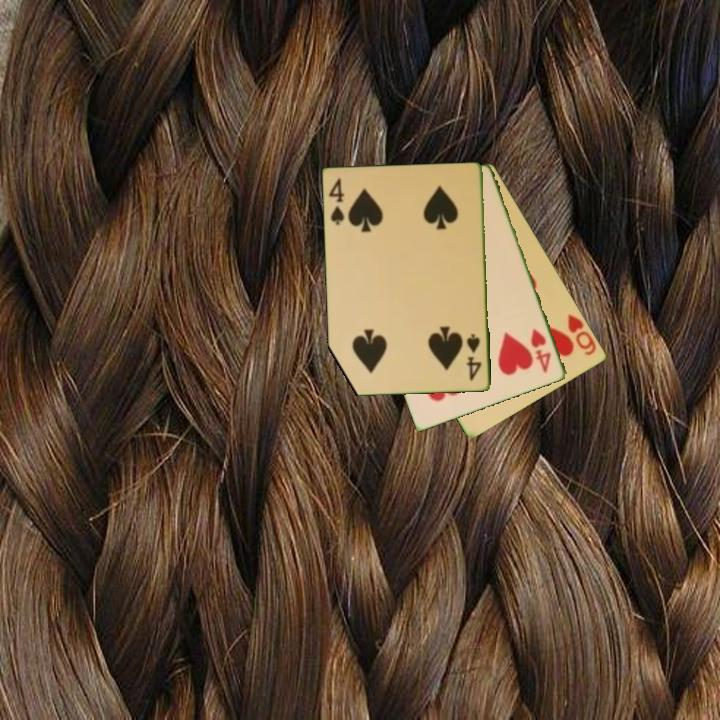4h: (527, 325, 554, 376)
4s: (325, 175, 347, 228), (463, 331, 484, 384)
6h: (564, 310, 599, 358)
